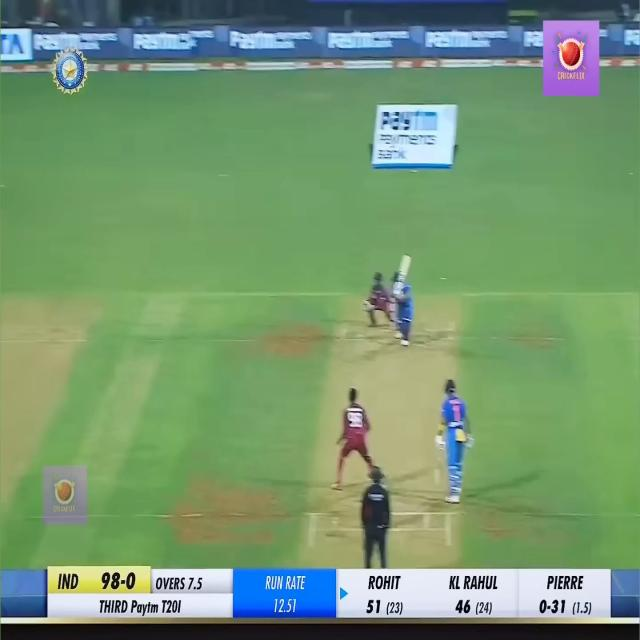fully_visible: (379, 104, 440, 134), (129, 596, 159, 622)
partially_visible: (225, 27, 277, 54), (326, 29, 374, 54), (422, 29, 471, 51), (134, 32, 178, 53)
